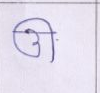o_matra: (43, 17, 60, 63)
